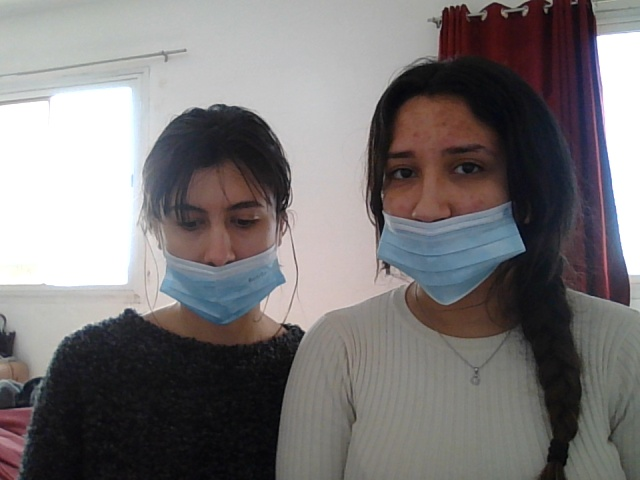mask_weared_incorrect: (369, 141, 521, 284), (159, 196, 285, 309)
